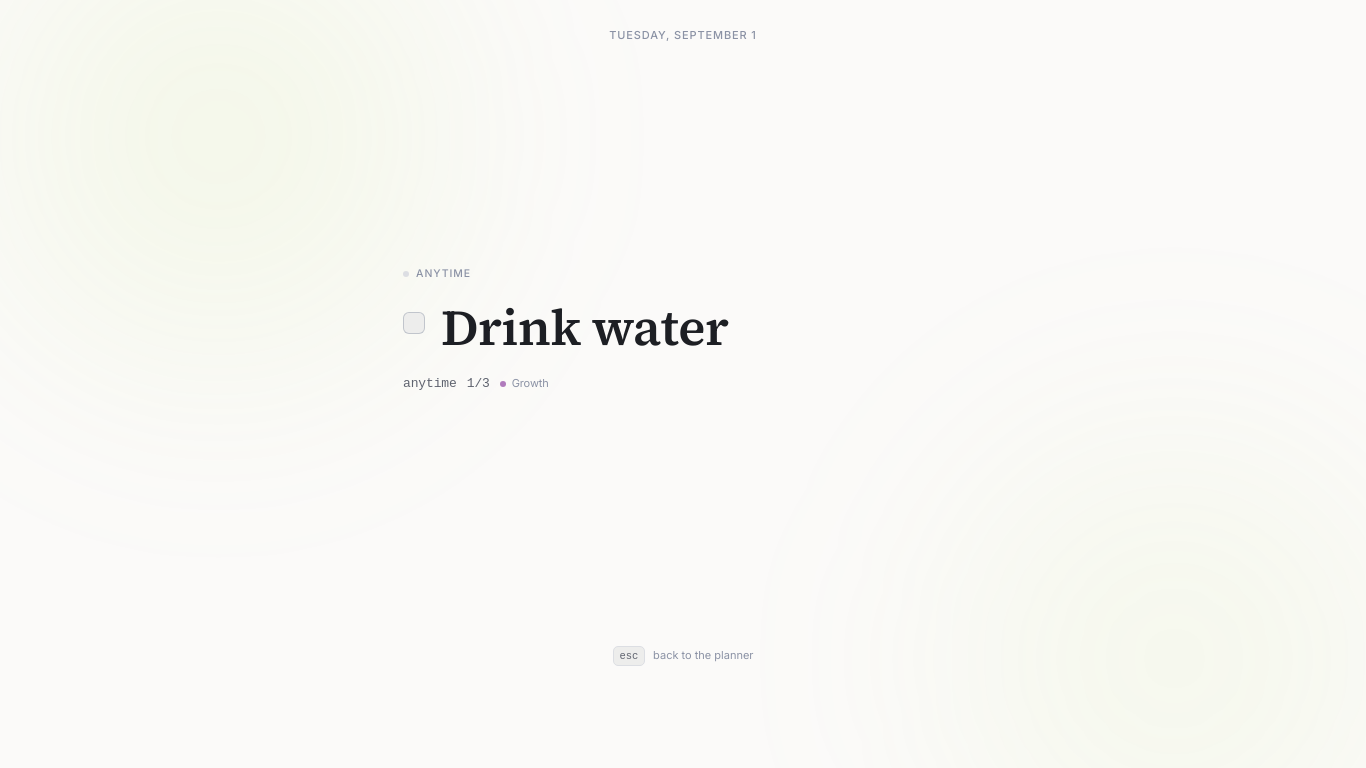
Test case: the Zen room › shows a multi-count habit its running tally rather than a dead click
The image size is (1366, 768).
Expected: the text "1/3" is shown, [467,375,490,392]
Click the button named "Complete Drink water".
click(414, 322)  # box [403,312,425,334]
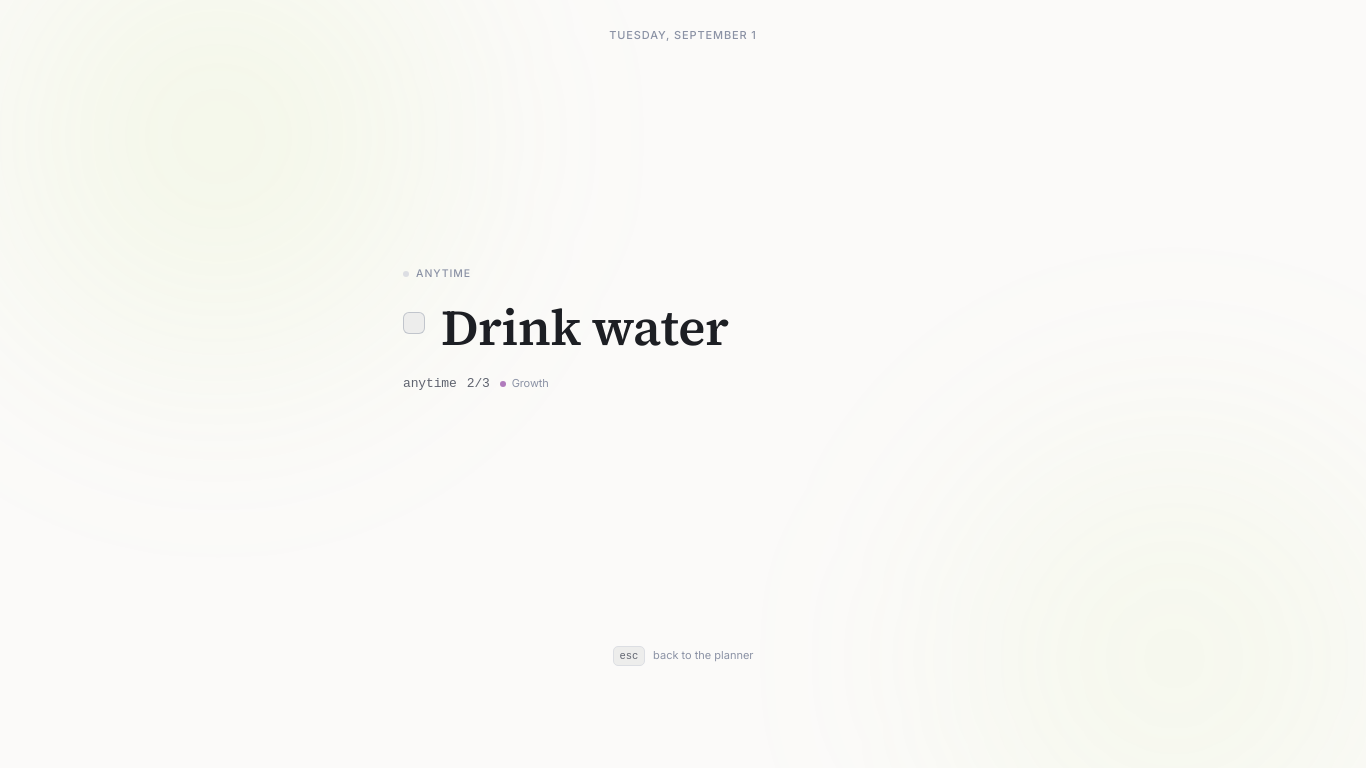
Result: the text "2/3" is shown at [467,375,490,392]
